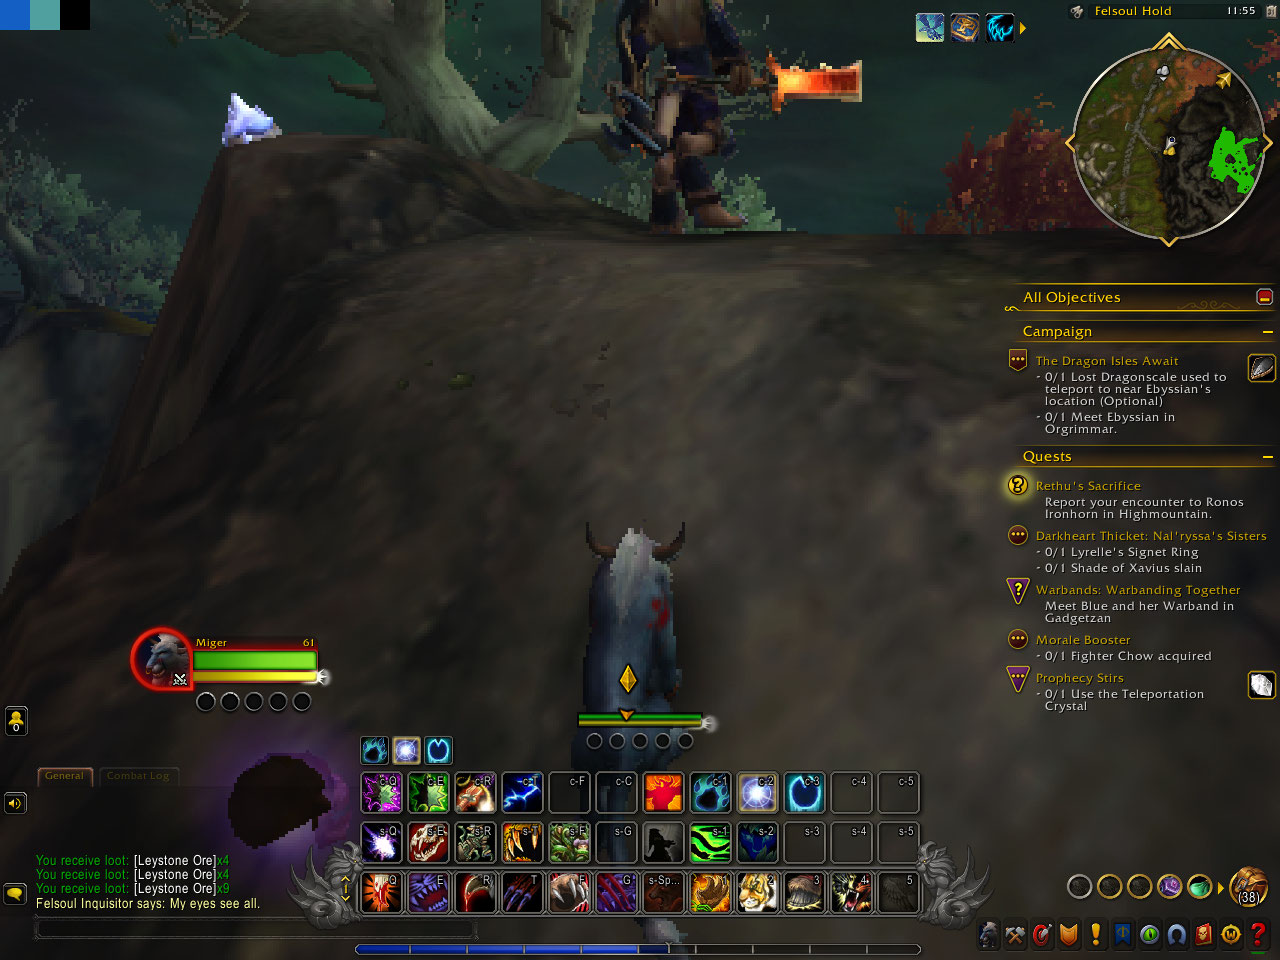ore: (218, 88, 286, 148)
